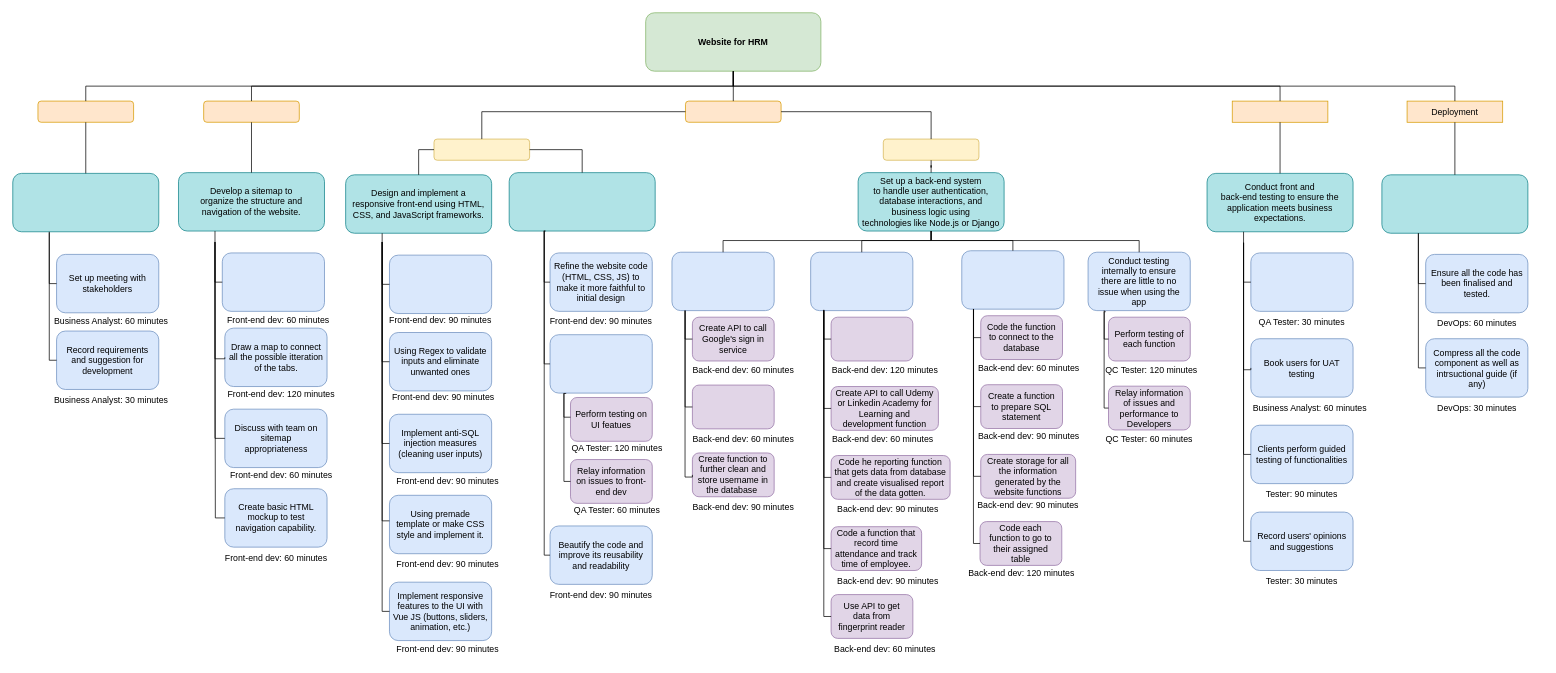
Some shapes in this 1556 by 673 pixel diagram are drawn without their labels. Each missing label, with the box of its shape:
Architecture Design: (203, 100, 299, 122)
Back-end: (883, 138, 979, 160)
Code already thought out business functions: (810, 251, 913, 311)
Code database connection and interactions: (961, 250, 1064, 309)
Code Payroll function and assign the payroll formular to it.: (830, 316, 913, 361)
Code user authentication: (671, 251, 774, 311)
Come up with the structure and navigation of the website: (222, 252, 324, 311)
Create a development package ready for push to production.: (1381, 174, 1528, 233)
Create function to hash and store user's password in the database: (692, 384, 774, 429)
Create testing form for user: (1250, 252, 1353, 311)
Design the front end as basic HTML and CSS: (389, 254, 492, 314)
Development: (685, 100, 781, 122)
Ensure UI functions as expected: (549, 334, 652, 393)
Fine tune the UI code to make it closely align to the UX/UI.: (508, 172, 655, 231)
Front-end: (433, 138, 530, 160)
Gain requirement of website from client and analyse their needs.: (12, 173, 159, 232)
Requirement collection: (37, 100, 134, 122)
Testing: (1232, 100, 1328, 122)
